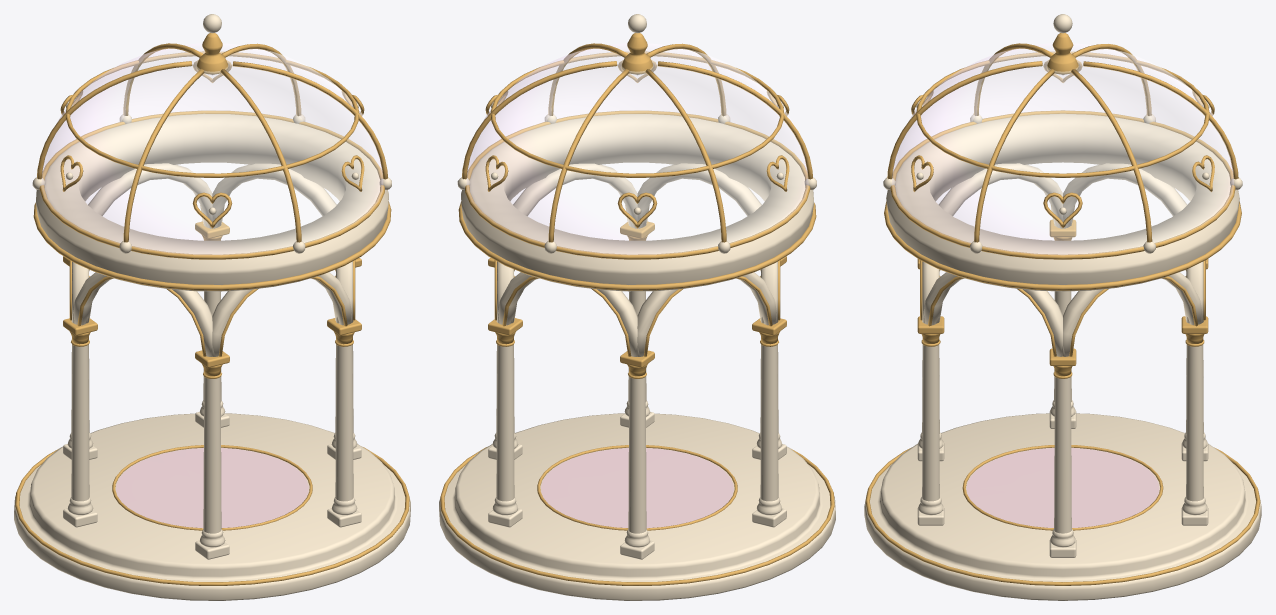
Rendered from gazebo-glass.glb.
3 renders of one model, left to right at view 1: azimuth 30°, elevation 25°; view 2: azimuth 150°, elevation 25°; view 3: azimuth 270°, elevation 25°, orthographic.
Visible parts, largest first — view 1: GazeboGlass; view 2: GazeboGlass; view 3: GazeboGlass.
Part boxes in pixels (x1,y1,x2,y2): GazeboGlass: (14,14,410,600); GazeboGlass: (439,14,835,600); GazeboGlass: (864,14,1261,600).
Size of the model in its own units: 3.7 by 5.17 by 3.7.
